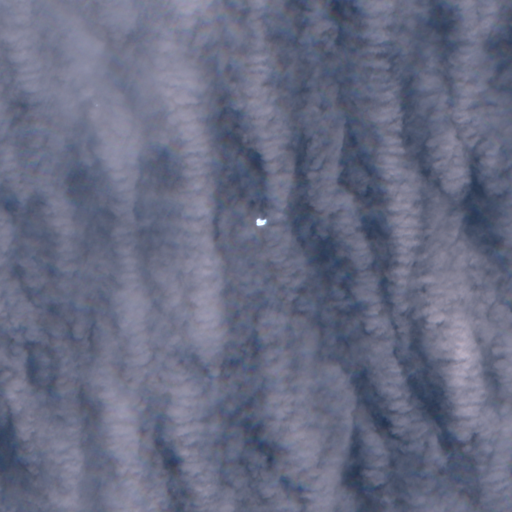Iceberg: (256, 218, 266, 225)
